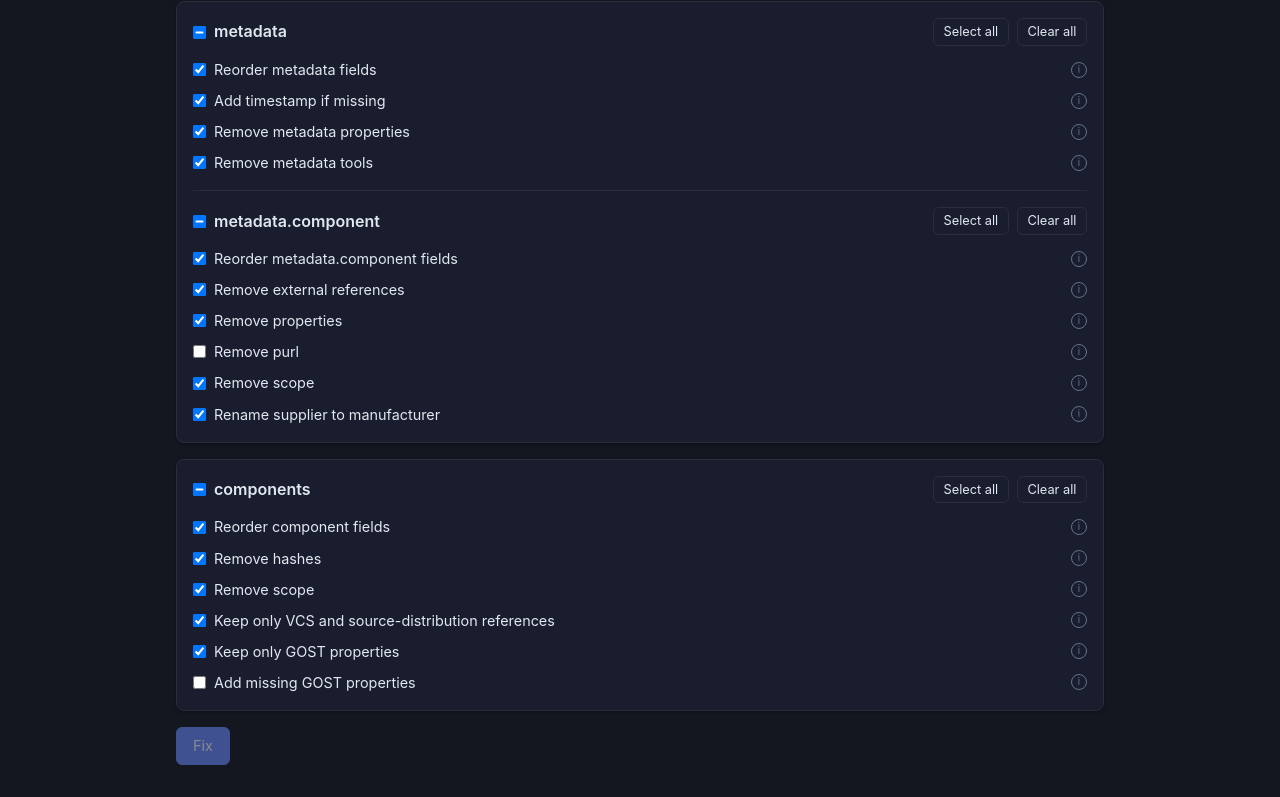
Test case: SbomFixer.vue › opens rule help with description and both examples
(page scrolled)
Step 1. Click the button "i" in the row of "Remove hashes" → [1079, 558], box [1071,550,1087,566]
(page scrolled)
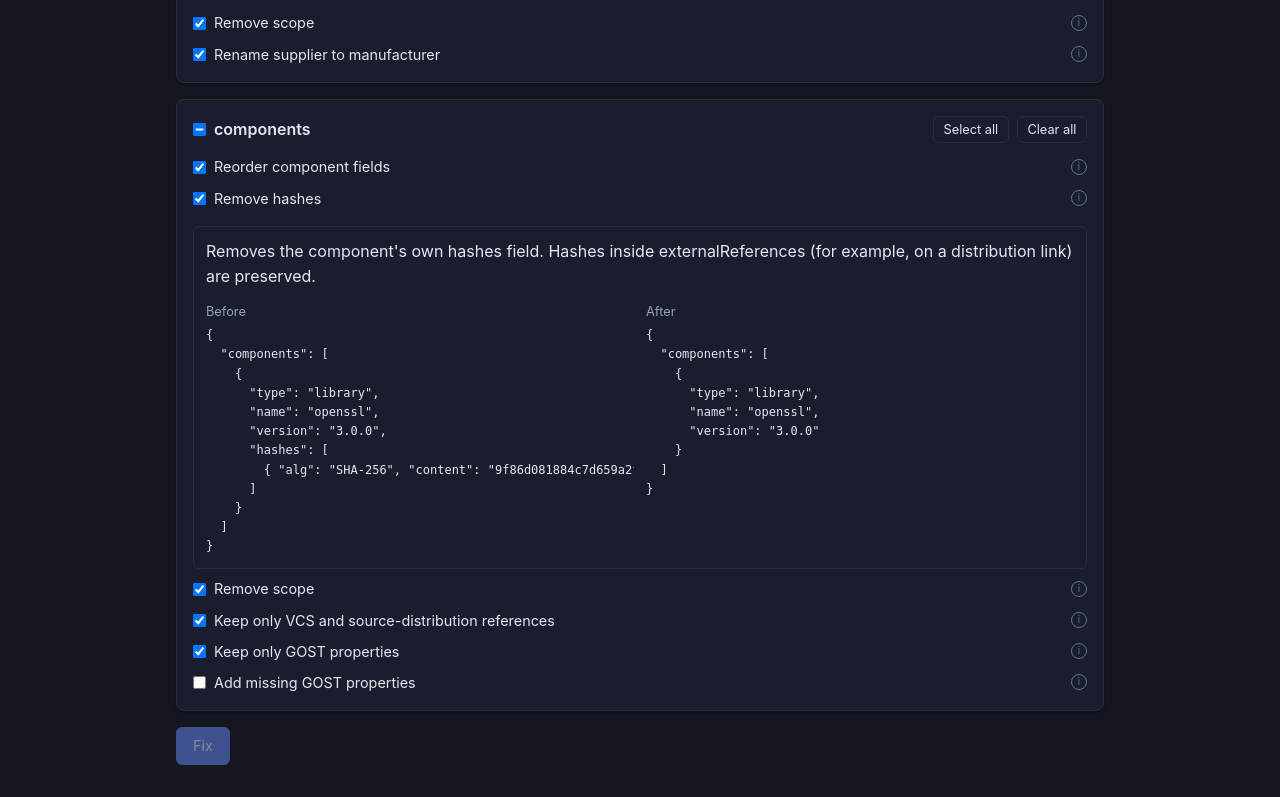
Expected: the element with class "rule-help-panel" is shown, [193,226,1087,570]
Expected: the element with class "rule-help-panel" shows "externalReferences", [206,241,1072,286]
